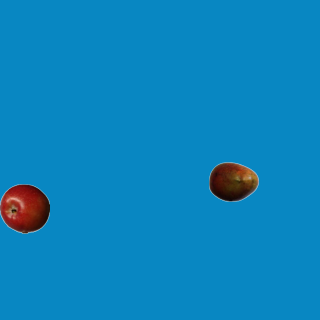Apple Braeburn: (0, 183, 49, 233)
Mango Red: (208, 156, 258, 206)
